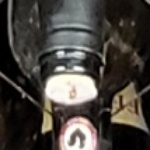bottle: (25, 37, 116, 118)
